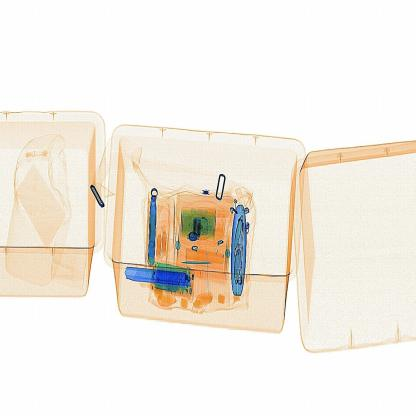pliers: (121, 264, 194, 293)
